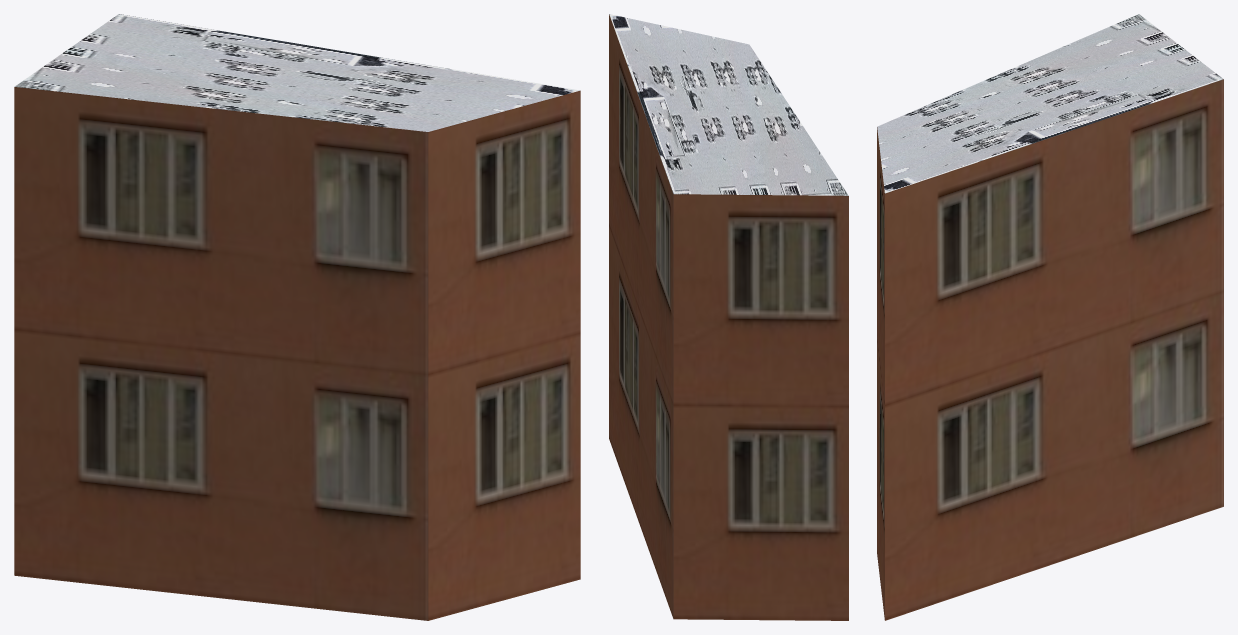
Rendered from ResTex__1309.fbx.
3 views of the same model, side by side, from view 1: azimuth 30°, elevation 25°; view 2: azimuth 150°, elevation 25°; view 3: azimuth 270°, elevation 25° (orthographic). The views are drawn at different scales.
Visible parts, largest first — view 1: CityEngineMaterial_20_m, CityEngineMaterial_8_m; view 2: CityEngineMaterial_20_m, CityEngineMaterial_8_m; view 3: CityEngineMaterial_20_m, CityEngineMaterial_8_m.
Boxes of the visible parts, box(x1,y1,x2,y2) form: CityEngineMaterial_20_m: box(14, 87, 580, 620); CityEngineMaterial_8_m: box(14, 14, 579, 131); CityEngineMaterial_20_m: box(609, 14, 848, 620); CityEngineMaterial_8_m: box(609, 14, 848, 195); CityEngineMaterial_20_m: box(877, 79, 1223, 620); CityEngineMaterial_8_m: box(877, 14, 1223, 193).
Bounding box in the file's own units: 5.41 × 6 × 4.41.
Materials: 2 (2 with a texture image).
